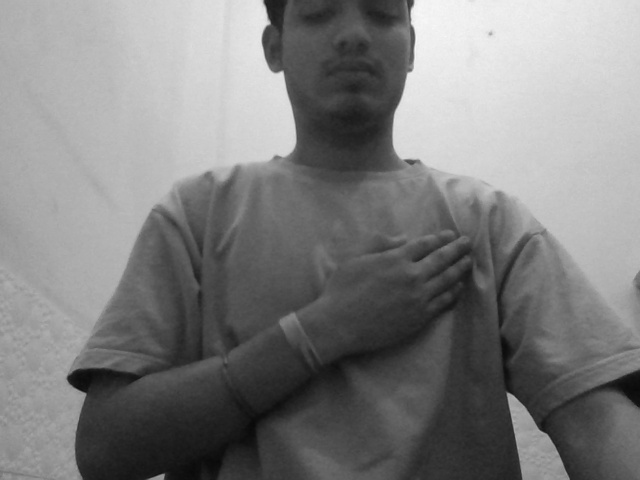Sorry: (300, 218, 513, 389)
